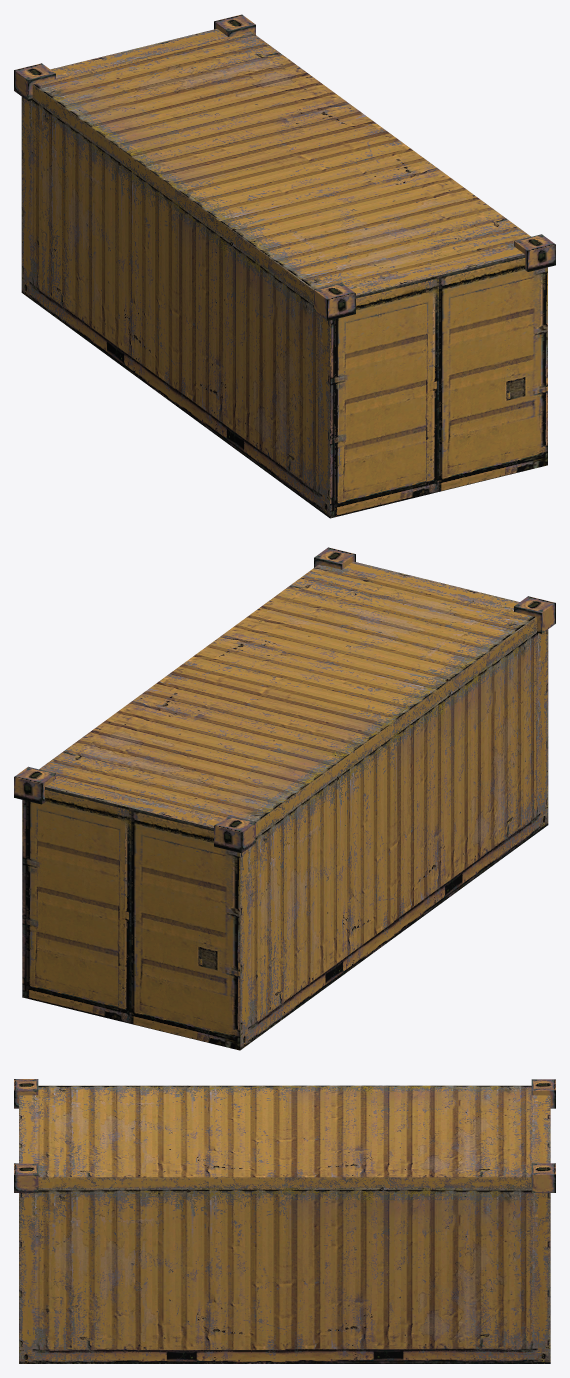
The model's file is Cover_Container08.glb.
3 renders of one model, top to bottom at view 1: azimuth 30°, elevation 25°; view 2: azimuth 150°, elevation 25°; view 3: azimuth 270°, elevation 25°, orthographic. The views are drawn at different scales.
Parts seen in each view (by area): view 1: xiutz_container08; view 2: xiutz_container08; view 3: xiutz_container08.
Boxes of the visible parts, bbox=[...] form: xiutz_container08: bbox=[14, 14, 555, 518]; xiutz_container08: bbox=[14, 547, 555, 1050]; xiutz_container08: bbox=[14, 1079, 555, 1363].
Bounding box in the file's own units: 4.79 × 4.44 × 11.43.
Materials: 1 (1 with a texture image).
